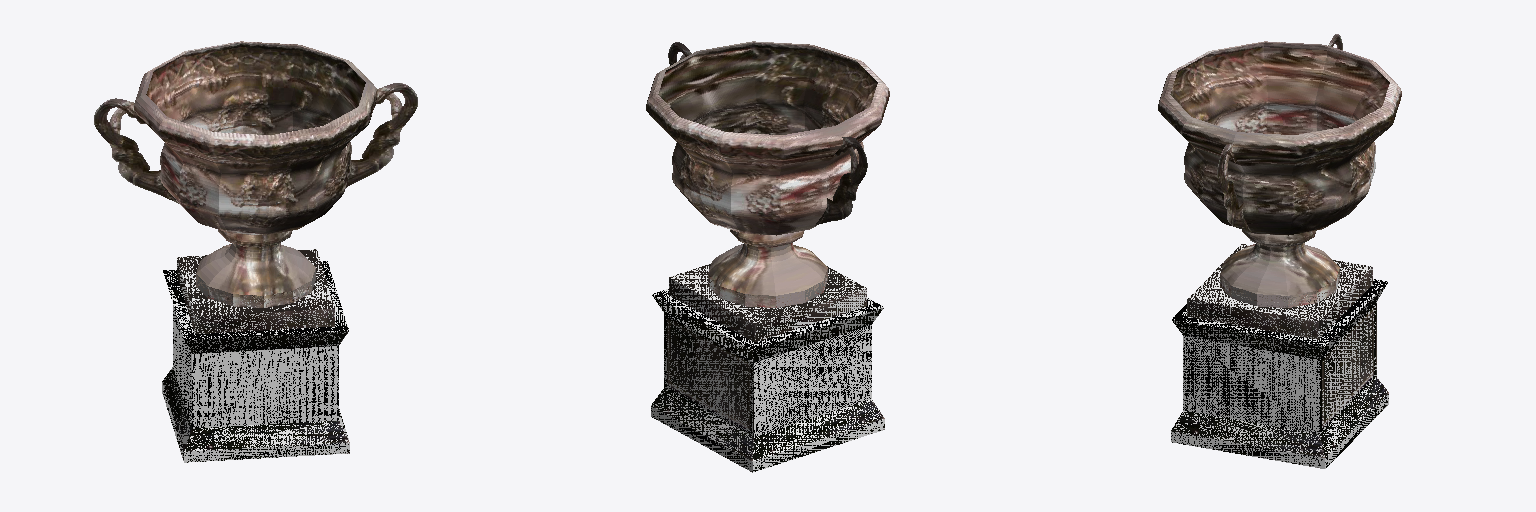
3 views of the same model, side by side, from view 1: azimuth 30°, elevation 25°; view 2: azimuth 150°, elevation 25°; view 3: azimuth 270°, elevation 25° (orthographic).
Parts seen in each view (by area): view 1: mesh1_mesh1-geometry, mesh16_mesh16-geometry, mesh14_mesh14-geometry, mesh11_mesh11-geometry, mesh17_mesh17-geometry, mesh13_mesh13-geometry, mesh12_mesh12-geometry, mesh15_mesh15-geometry, mesh8_mesh8-geometry; view 2: mesh1_mesh1-geometry, mesh16_mesh16-geometry, mesh8_mesh8-geometry, mesh2_mesh2-geometry, mesh17_mesh17-geometry, mesh14_mesh14-geometry, mesh10_mesh10-geometry, mesh15_mesh15-geometry, mesh9_mesh9-geometry, mesh4_mesh4-geometry, mesh3_mesh3-geometry; view 3: mesh1_mesh1-geometry, mesh16_mesh16-geometry, mesh5_mesh5-geometry, mesh17_mesh17-geometry, mesh2_mesh2-geometry, mesh7_mesh7-geometry, mesh6_mesh6-geometry, mesh15_mesh15-geometry, mesh14_mesh14-geometry, mesh4_mesh4-geometry.
Part boxes in pixels (x1,y1,x2,y2): mesh1_mesh1-geometry: (134,41,377,307); mesh16_mesh16-geometry: (173,305,338,428); mesh14_mesh14-geometry: (94,83,417,203); mesh11_mesh11-geometry: (184,421,349,462); mesh17_mesh17-geometry: (177,249,334,315); mesh13_mesh13-geometry: (195,309,334,333); mesh12_mesh12-geometry: (185,331,348,353); mesh15_mesh15-geometry: (163,261,348,339); mesh8_mesh8-geometry: (162,367,191,460); mesh1_mesh1-geometry: (646,41,889,307); mesh16_mesh16-geometry: (664,313,871,436); mesh8_mesh8-geometry: (753,399,884,471); mesh2_mesh2-geometry: (651,388,753,472); mesh17_mesh17-geometry: (669,264,866,324); mesh14_mesh14-geometry: (668,42,867,225); mesh10_mesh10-geometry: (755,289,866,341); mesh15_mesh15-geometry: (652,289,883,349); mesh9_mesh9-geometry: (753,308,883,362); mesh4_mesh4-geometry: (669,278,754,341); mesh3_mesh3-geometry: (652,295,753,361); mesh1_mesh1-geometry: (1158,41,1401,307); mesh16_mesh16-geometry: (1183,302,1376,433); mesh5_mesh5-geometry: (1171,411,1324,468); mesh17_mesh17-geometry: (1188,244,1371,321); mesh2_mesh2-geometry: (1320,377,1388,468); mesh7_mesh7-geometry: (1187,299,1317,339); mesh6_mesh6-geometry: (1172,320,1324,359); mesh15_mesh15-geometry: (1172,279,1387,346); mesh14_mesh14-geometry: (1217,34,1342,229); mesh4_mesh4-geometry: (1318,267,1372,339).
Bounding box in the file's own units: 0.5644 × 0.6883 × 0.4558.
8 materials, 5 textured.